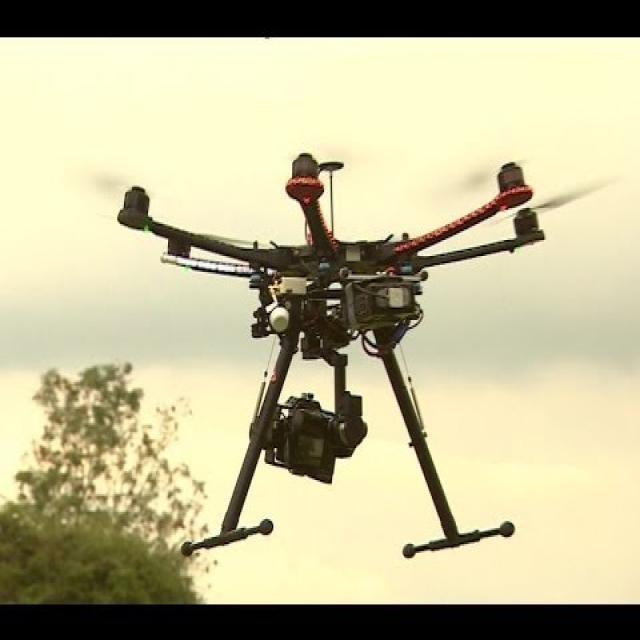drone: (84, 109, 593, 592)
